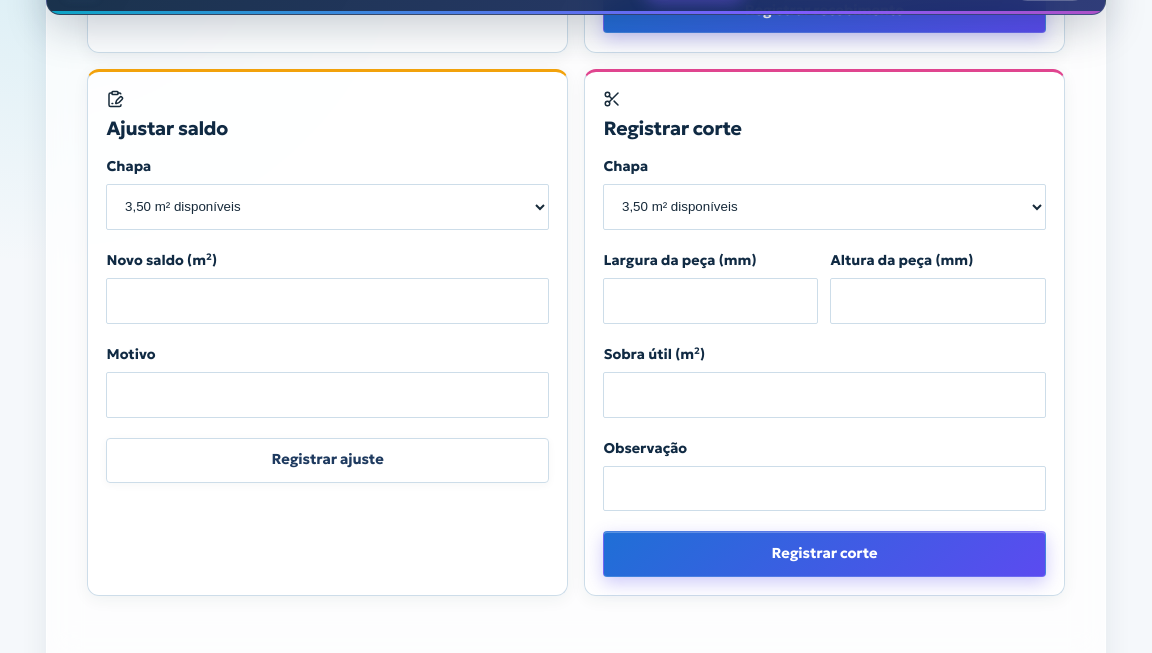
Test: registers a manual cut and displays the calculated yield
(page scrolled)
Type "1000" into the number field labelled "Largura da peça" at (711, 301), box left=603, top=278, right=818, bottom=324
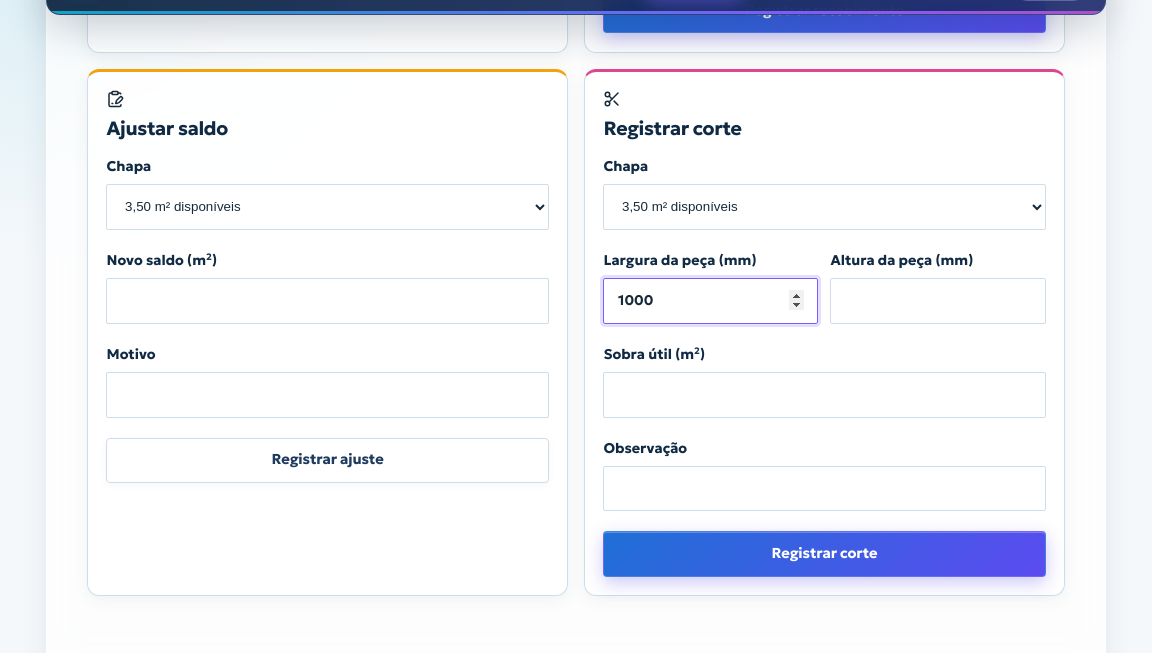
Type "1000" into the number field labelled "Altura da peça" at (938, 301), box left=830, top=278, right=1046, bottom=324
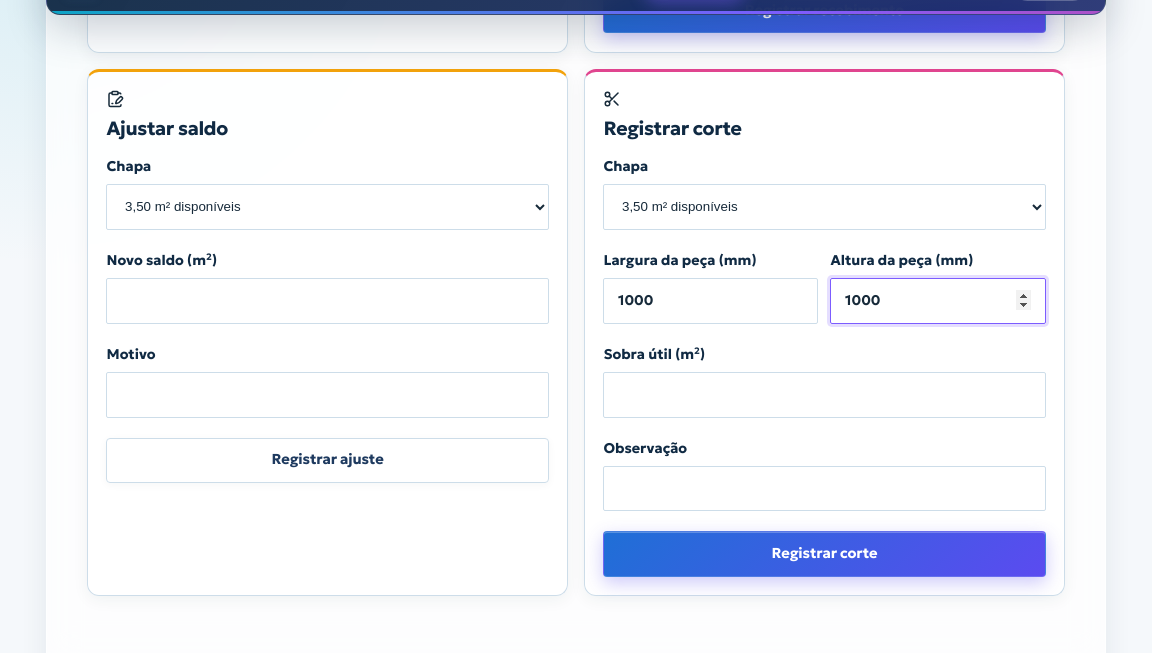
Type "2.5" into the number field named "Sobra útil em metros quadrados" at (824, 395), box left=603, top=372, right=1046, bottom=418
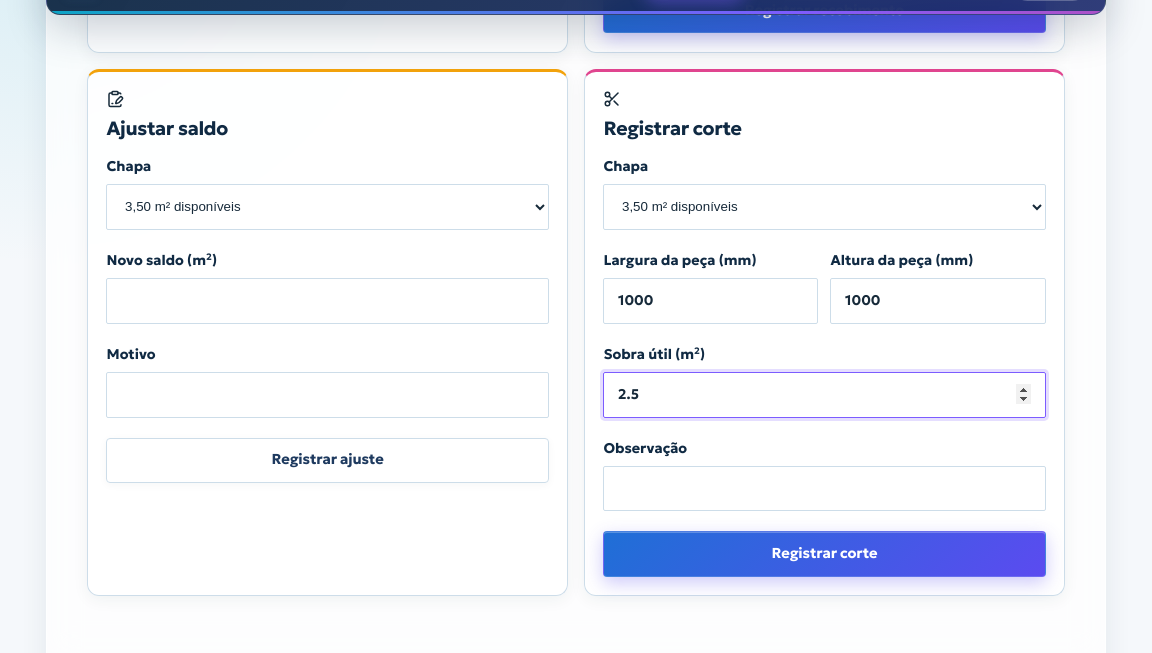
Click the button "Registrar corte" at (824, 554), box left=603, top=531, right=1046, bottom=577
(page scrolled)
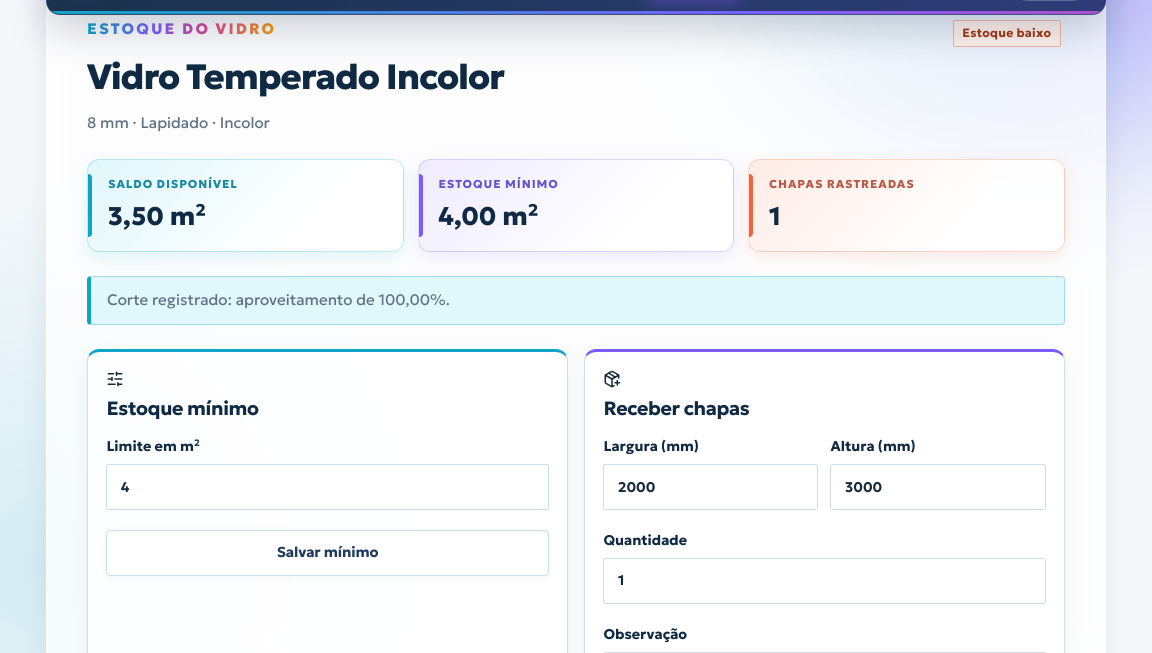
Expected: the text "Corte registrado: aproveitamento de 100,00%." is shown, left=87, top=276, right=1065, bottom=325
